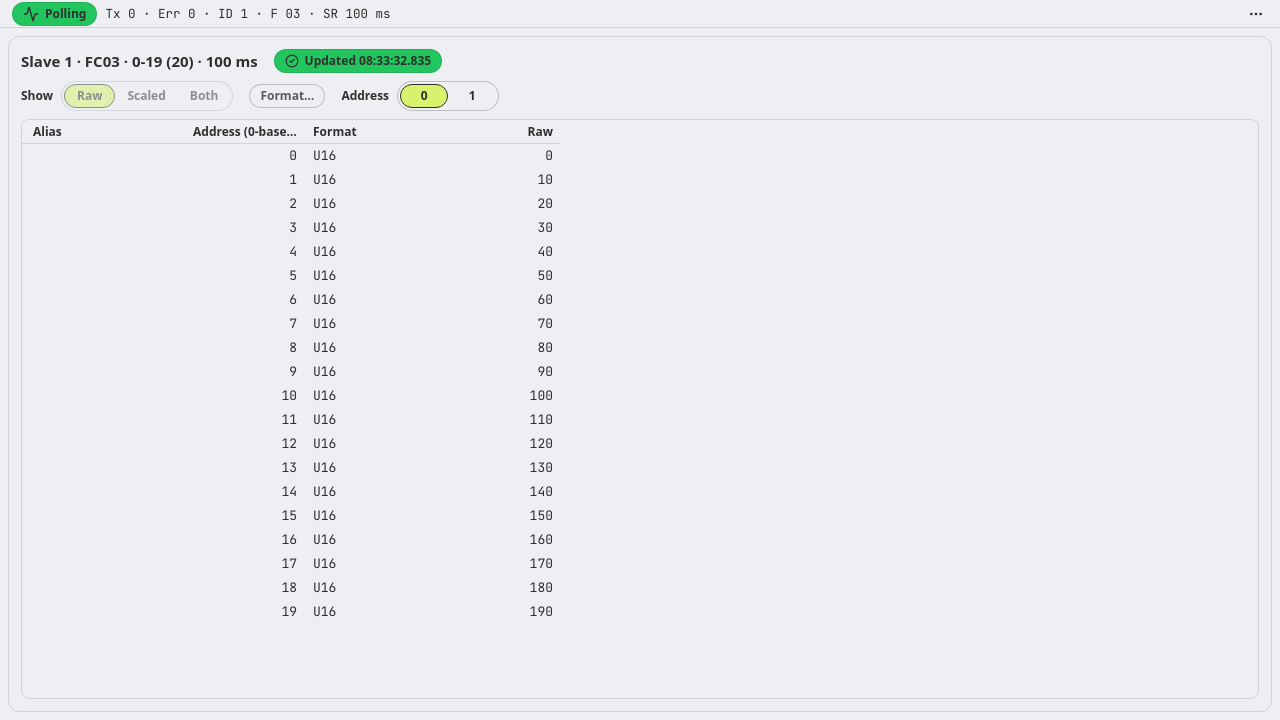
Test case: from the selected rows › the dialog is 480 px wide, modal in the window, and holds a modal lock while open
Click the row "0 U16 0" at (293, 156), box [289,147,553,164]
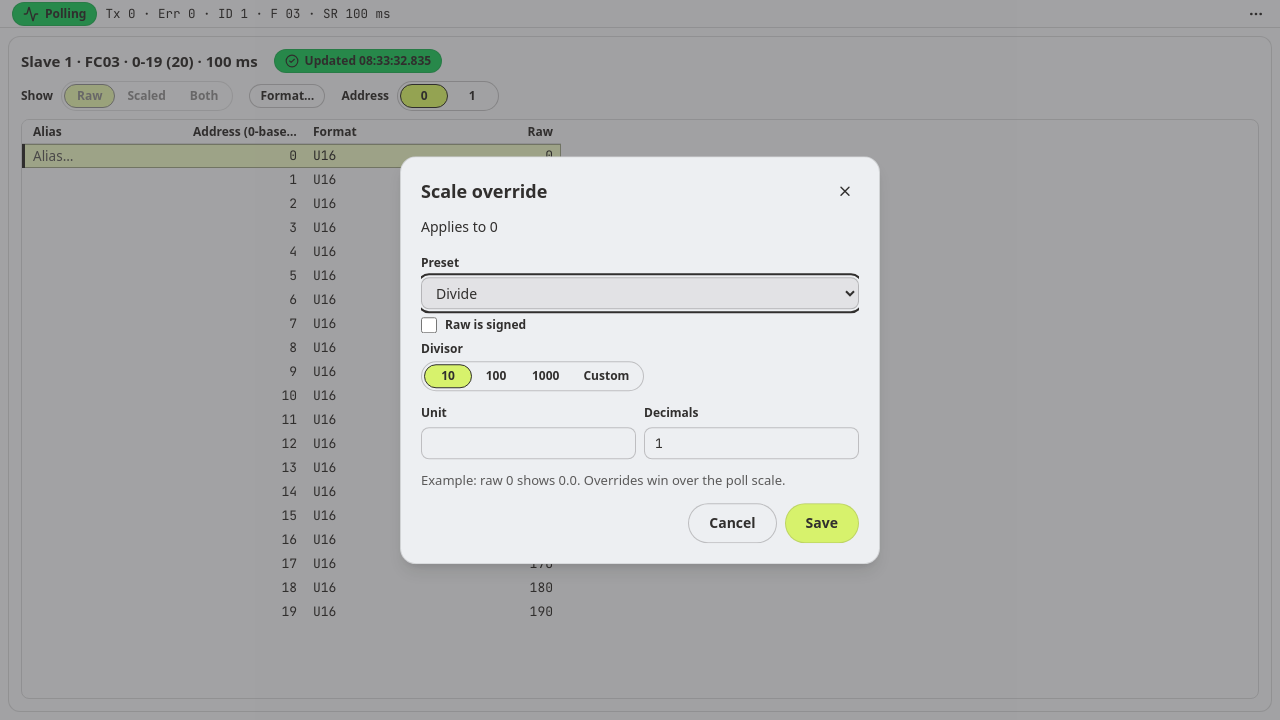
Click the button "Cancel" at (732, 523), box [688,503,777,543]
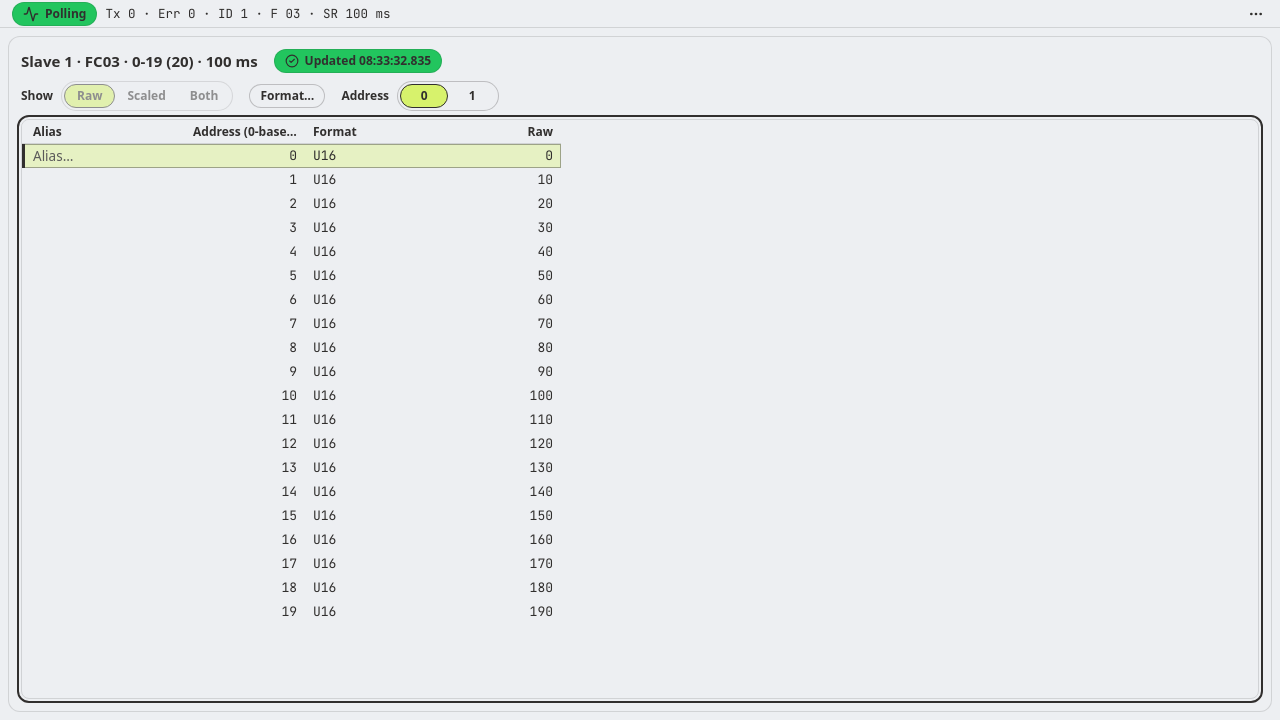
Now the dialog is gone
